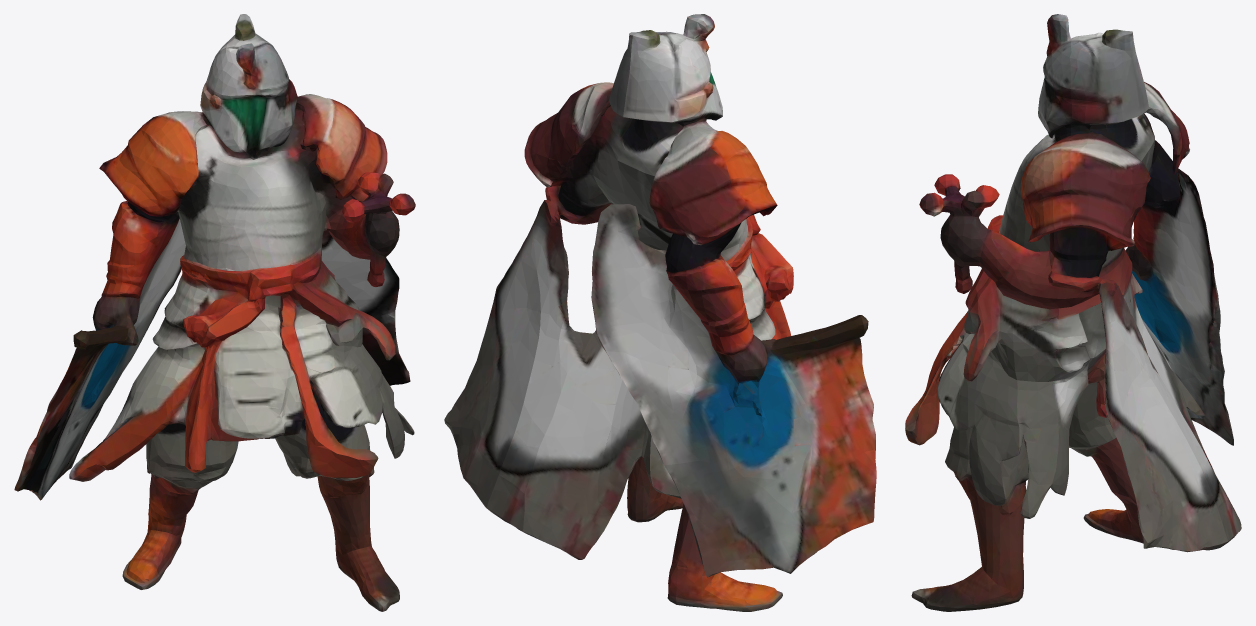
File: anime_ancient_warrior.glb
3 views of the same model, side by side, from view 1: azimuth 30°, elevation 25°; view 2: azimuth 150°, elevation 25°; view 3: azimuth 270°, elevation 25° (orthographic). The views are drawn at different scales.
Visible parts, largest first — view 1: geometry_0; view 2: geometry_0; view 3: geometry_0.
Part boxes in pixels (x1,y1,x2,y2): geometry_0: (14, 14, 415, 611); geometry_0: (444, 14, 876, 611); geometry_0: (905, 14, 1241, 611).
Size of the model in its own units: 0.7989 by 1 by 0.5561.
Materials: 1 (1 with a texture image).
